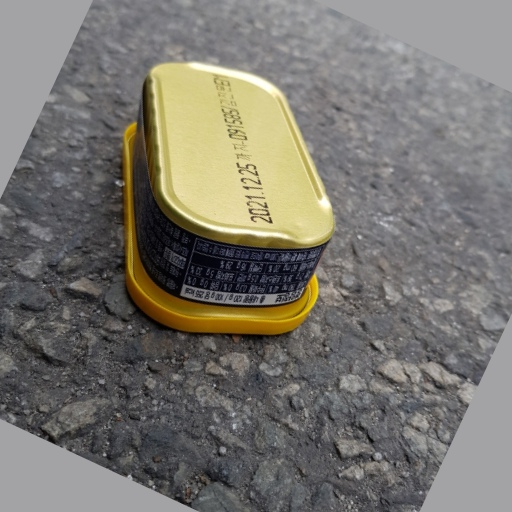Metal_2: (117, 59, 336, 346)
